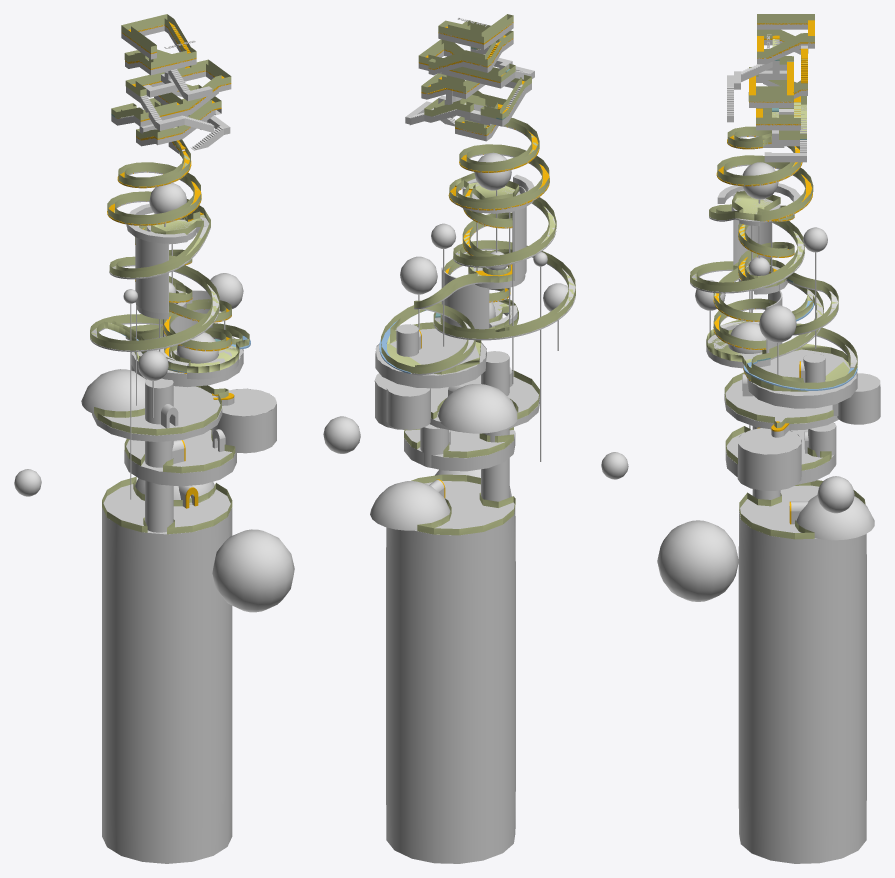
Rendered from path.glb.
The picture shows the model from 3 angles, left to right: view 1: azimuth 30°, elevation 25°; view 2: azimuth 150°, elevation 25°; view 3: azimuth 270°, elevation 25°; orthographic projection.
Parts seen in each view (by area): view 1: base.007, boundary, path, base.003, base.004, base.006; view 2: base.007, boundary, path, base.003, base.006; view 3: base.007, boundary, path, base.003, base.006.
Boxes of the visible parts, x1,y1,x2,y2 form: base.007: [14, 136, 294, 863]; boundary: [90, 14, 249, 534]; path: [107, 22, 231, 373]; base.003: [125, 60, 231, 102]; base.004: [154, 85, 225, 130]; base.006: [139, 109, 230, 145]; base.007: [323, 125, 628, 863]; boundary: [381, 14, 575, 535]; path: [418, 22, 549, 302]; base.003: [418, 50, 515, 88]; base.006: [405, 95, 500, 125]; base.007: [657, 135, 880, 863]; boundary: [690, 14, 865, 539]; path: [713, 20, 814, 380]; base.003: [734, 64, 807, 107]; base.006: [764, 104, 806, 162].
Bounding box in the file's own units: 44.13 × 126 × 31.84.
